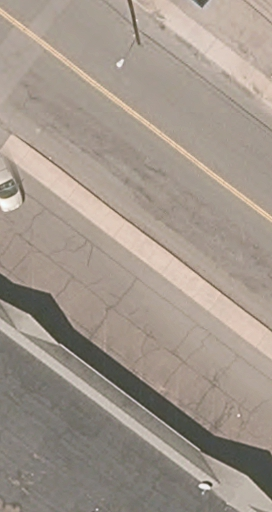DT: (114, 18, 142, 70)
